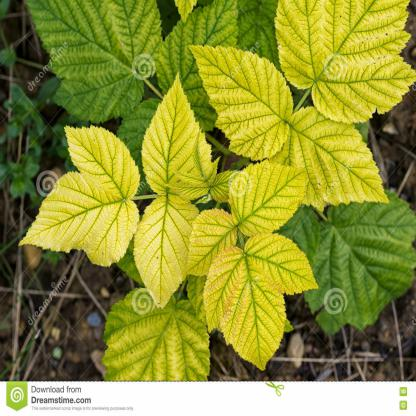raspberry leaf: (276, 0, 413, 125), (17, 125, 140, 262), (204, 234, 317, 377), (187, 41, 294, 163), (278, 105, 392, 210), (141, 68, 206, 195), (134, 195, 205, 310), (231, 164, 315, 245), (184, 209, 239, 280)
